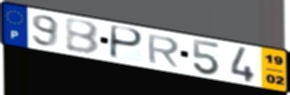4: (229, 45, 257, 85)
5: (192, 37, 222, 77)
9: (30, 14, 61, 48)
B: (63, 17, 101, 56)
P: (108, 24, 146, 61)
R: (146, 33, 182, 69)
